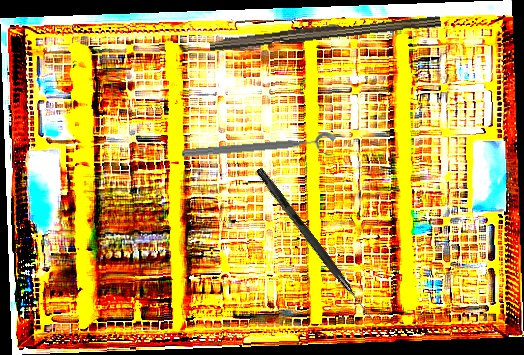Fixation Ring: (181, 131, 338, 170)
Hook Surgical: (253, 167, 379, 323)
Scalpel Handle: (208, 8, 442, 56)
